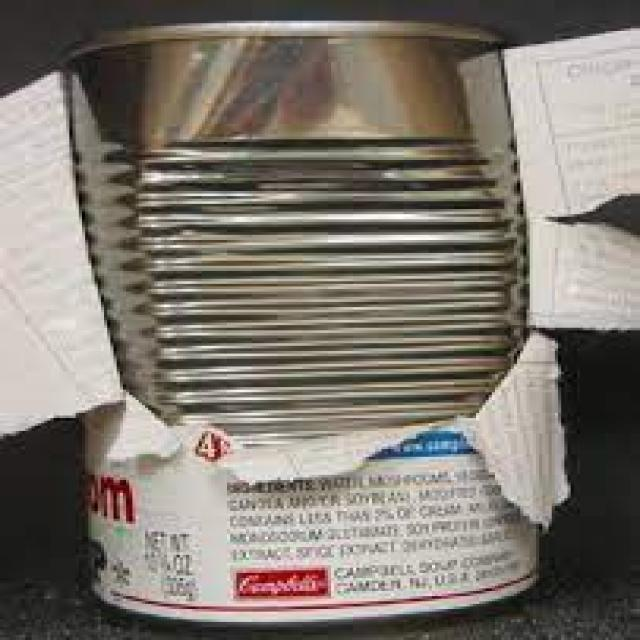metal-can: (44, 18, 549, 632)
